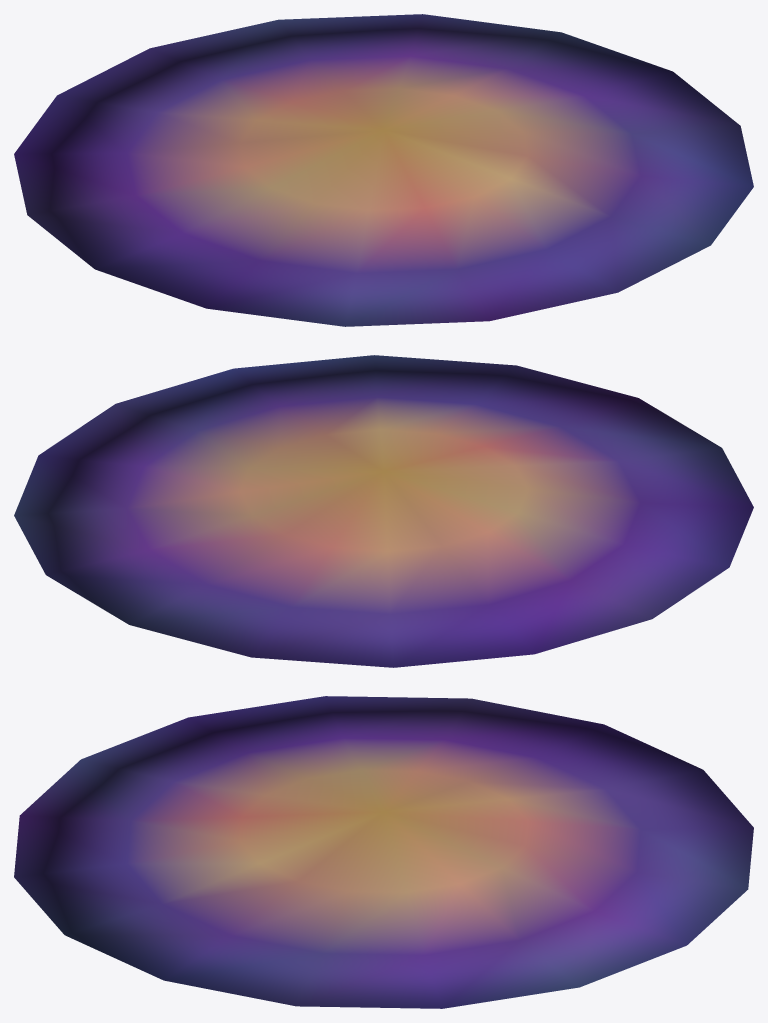
Rendered from space-galaxies-galaxy_v11.glb.
The picture shows the model from 3 angles, top to bottom: view 1: azimuth 30°, elevation 25°; view 2: azimuth 150°, elevation 25°; view 3: azimuth 270°, elevation 25°; orthographic projection.
Visible parts, largest first — view 1: Galaxy_v11; view 2: Galaxy_v11; view 3: Galaxy_v11.
Boxes of the visible parts, left/top/right/bottom form: Galaxy_v11: left=14, top=14, right=753, bottom=326; Galaxy_v11: left=14, top=355, right=753, bottom=667; Galaxy_v11: left=14, top=696, right=753, bottom=1008.
Bounding box in the file's own units: 0.5 × 0.0548 × 0.5.
